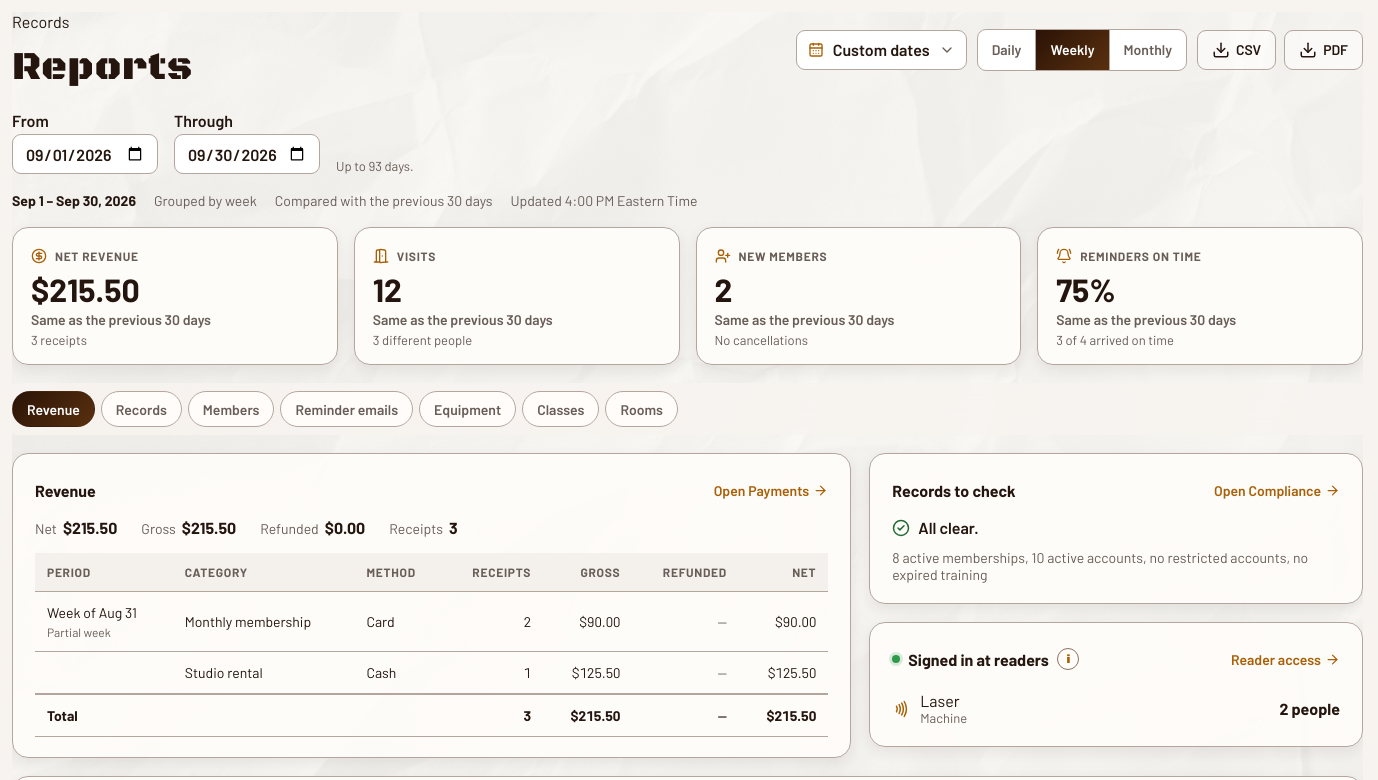
the readers card explains what it counts behind a circled i
Click the button named "What this card counts".
click(1068, 659)  # box [1057,648,1079,670]
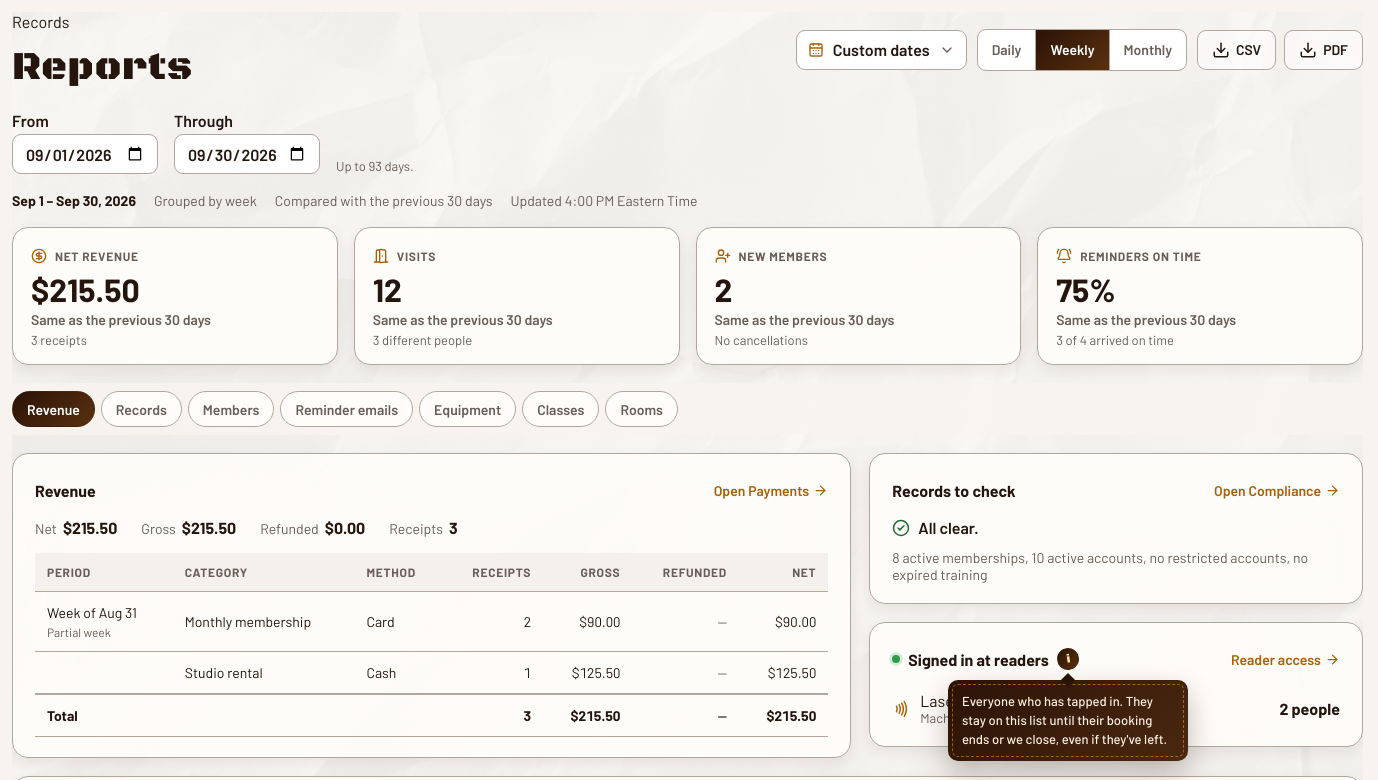
Now the button named "What this card counts" is expanded, box [1056,647,1080,672]
Press Escape
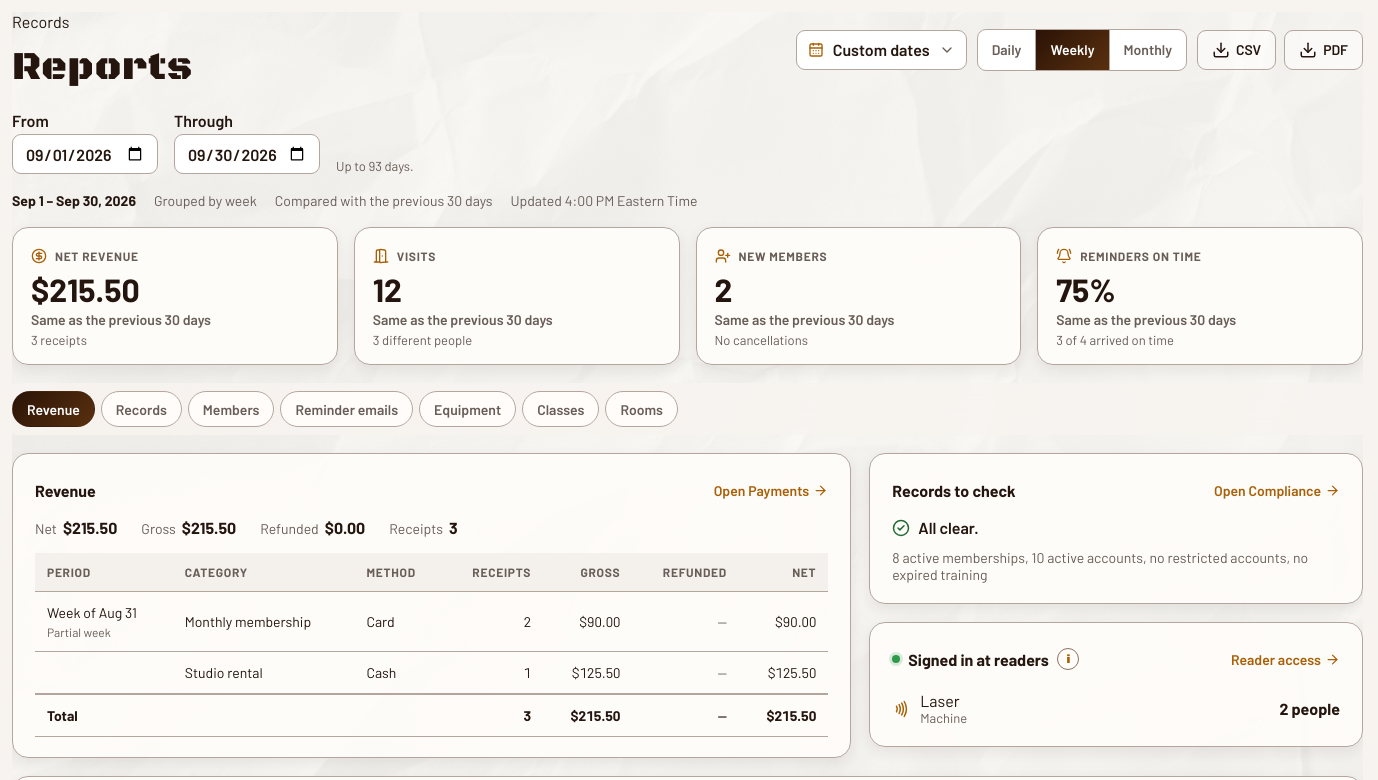
Now the button named "What this card counts" is collapsed, box [1057,648,1079,670]
